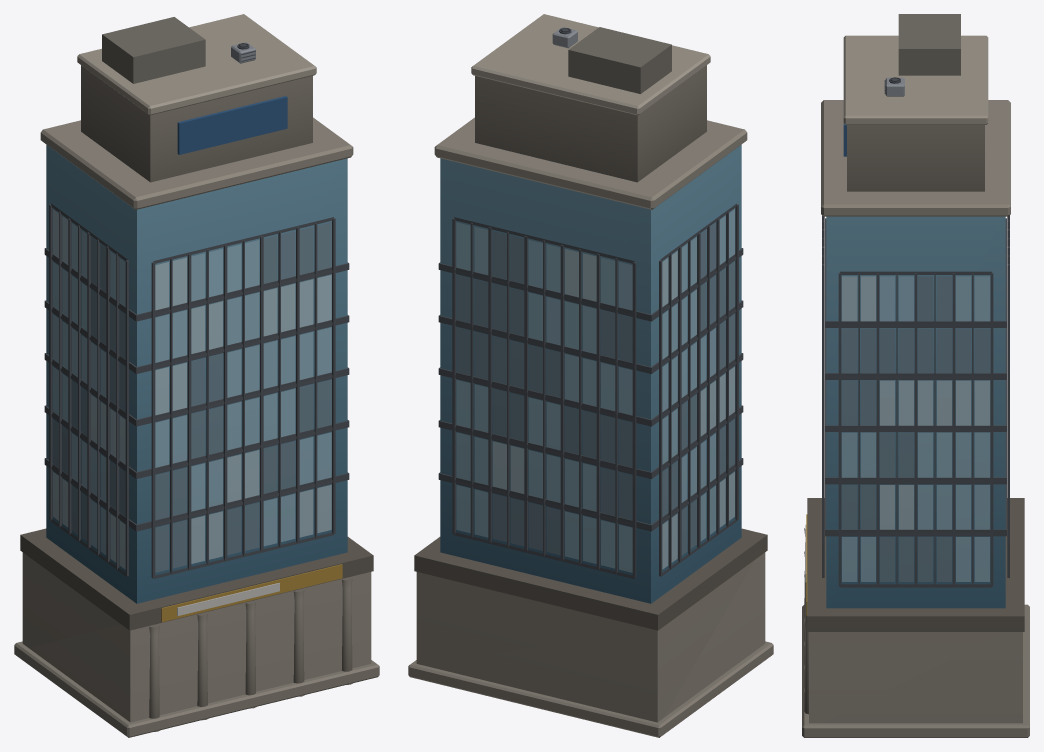
The model's file is corporate_hq_01.glb.
3 views of the same model, side by side, from view 1: azimuth 30°, elevation 25°; view 2: azimuth 150°, elevation 25°; view 3: azimuth 270°, elevation 25° (orthographic).
Visible parts, largest first — view 1: corporate_hq_01; view 2: corporate_hq_01; view 3: corporate_hq_01.
Part boxes in pixels (x1,y1,x2,y2): corporate_hq_01: [14, 14, 379, 737]; corporate_hq_01: [408, 14, 773, 737]; corporate_hq_01: [802, 14, 1029, 737].
Bounding box in the file's own units: 8.4 × 20.1 × 6.6.
